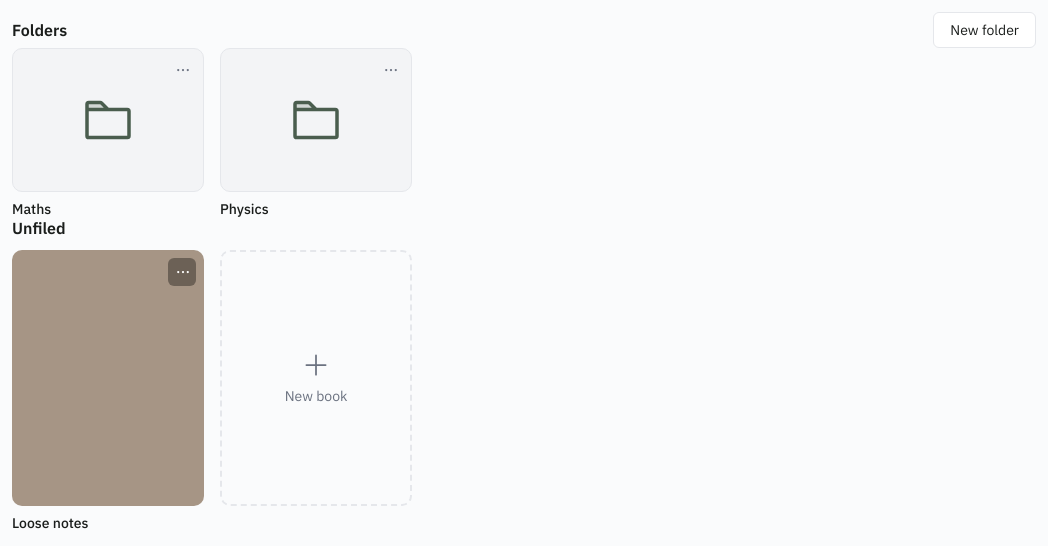
Test: FolderView › creates a new folder in the current folder
The width and height of the screenshot is (1048, 546).
Step 1. Click the button named "Open folder Physics" → (316, 120), box [220,48,412,192]
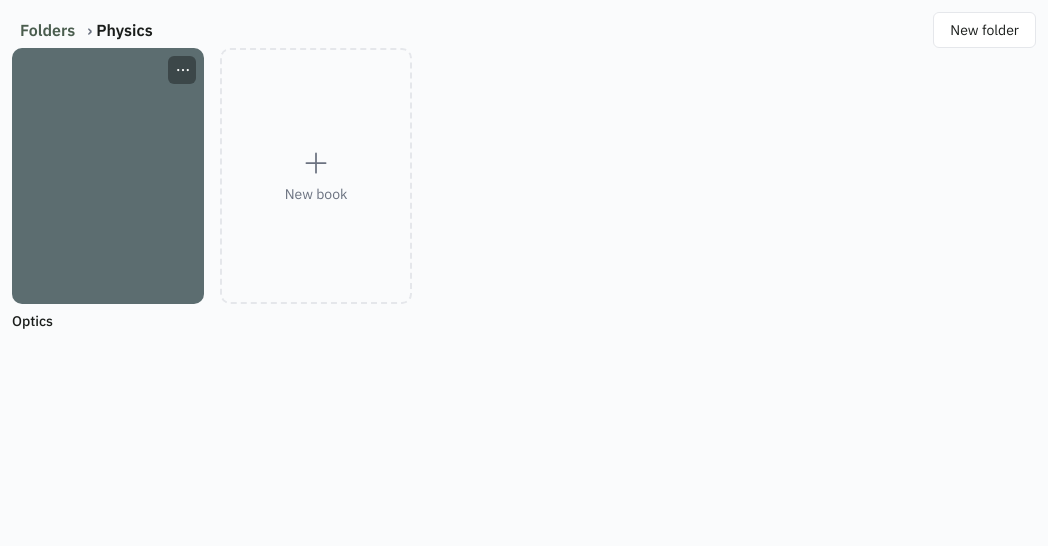
Step 2. Click the button "New folder" → (985, 30), box [933,12,1036,48]
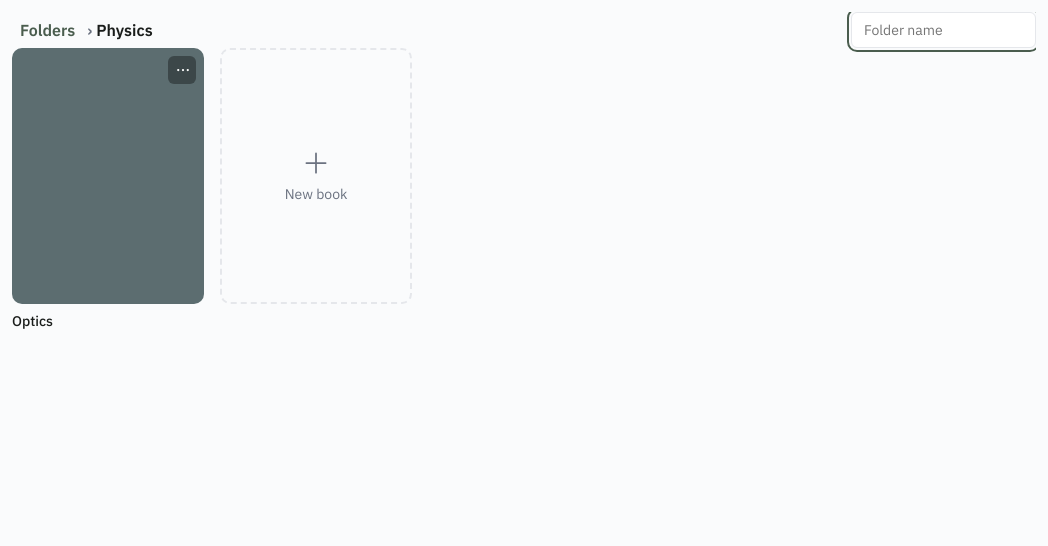
Step 3. Type "Waves" into the field named "New folder name" → (944, 30), box [851,12,1036,48]
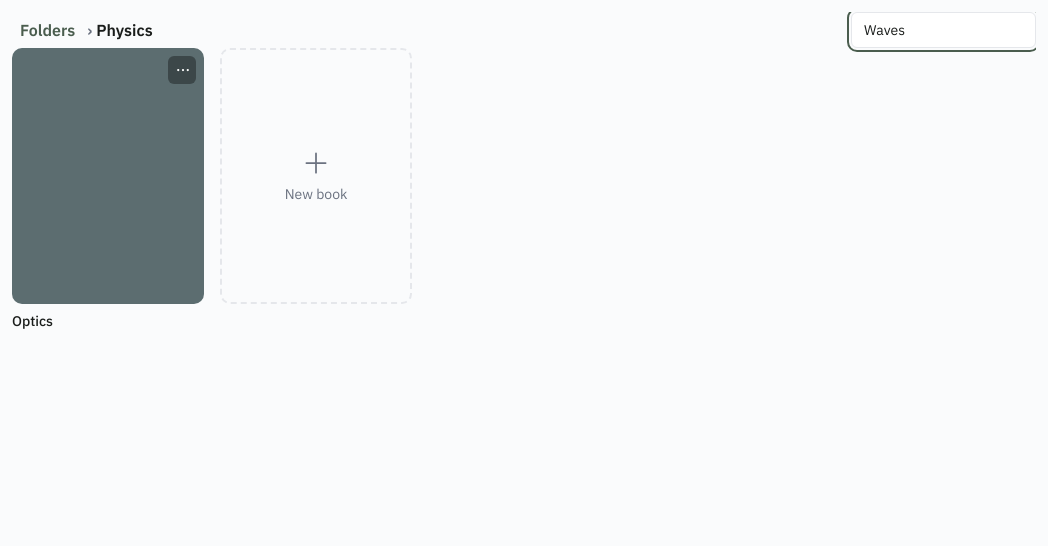
Step 4. Press Enter in the field named "New folder name", box [851,12,1036,48]
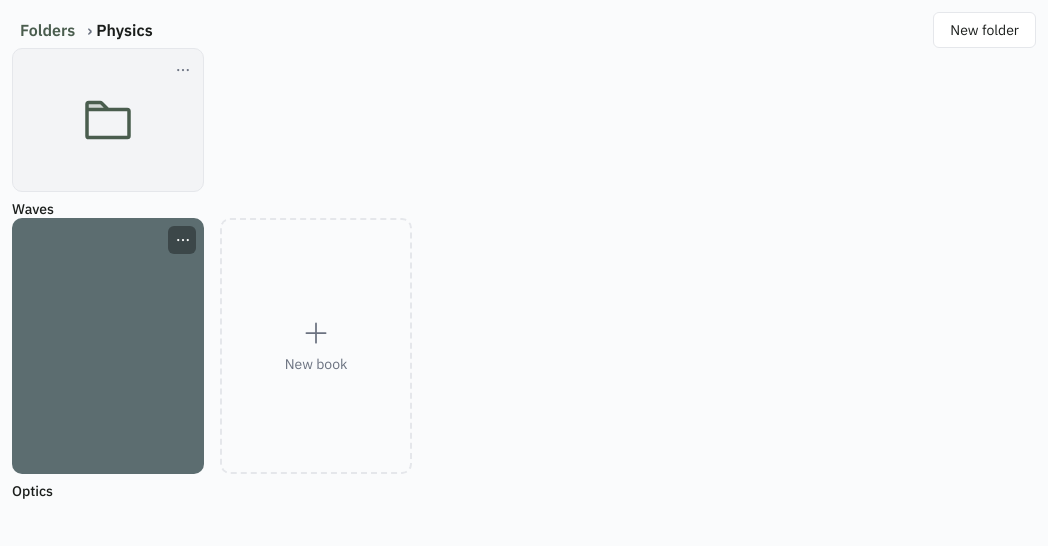
Check: the button named "Open folder Waves" is shown, box [12,48,204,192]
